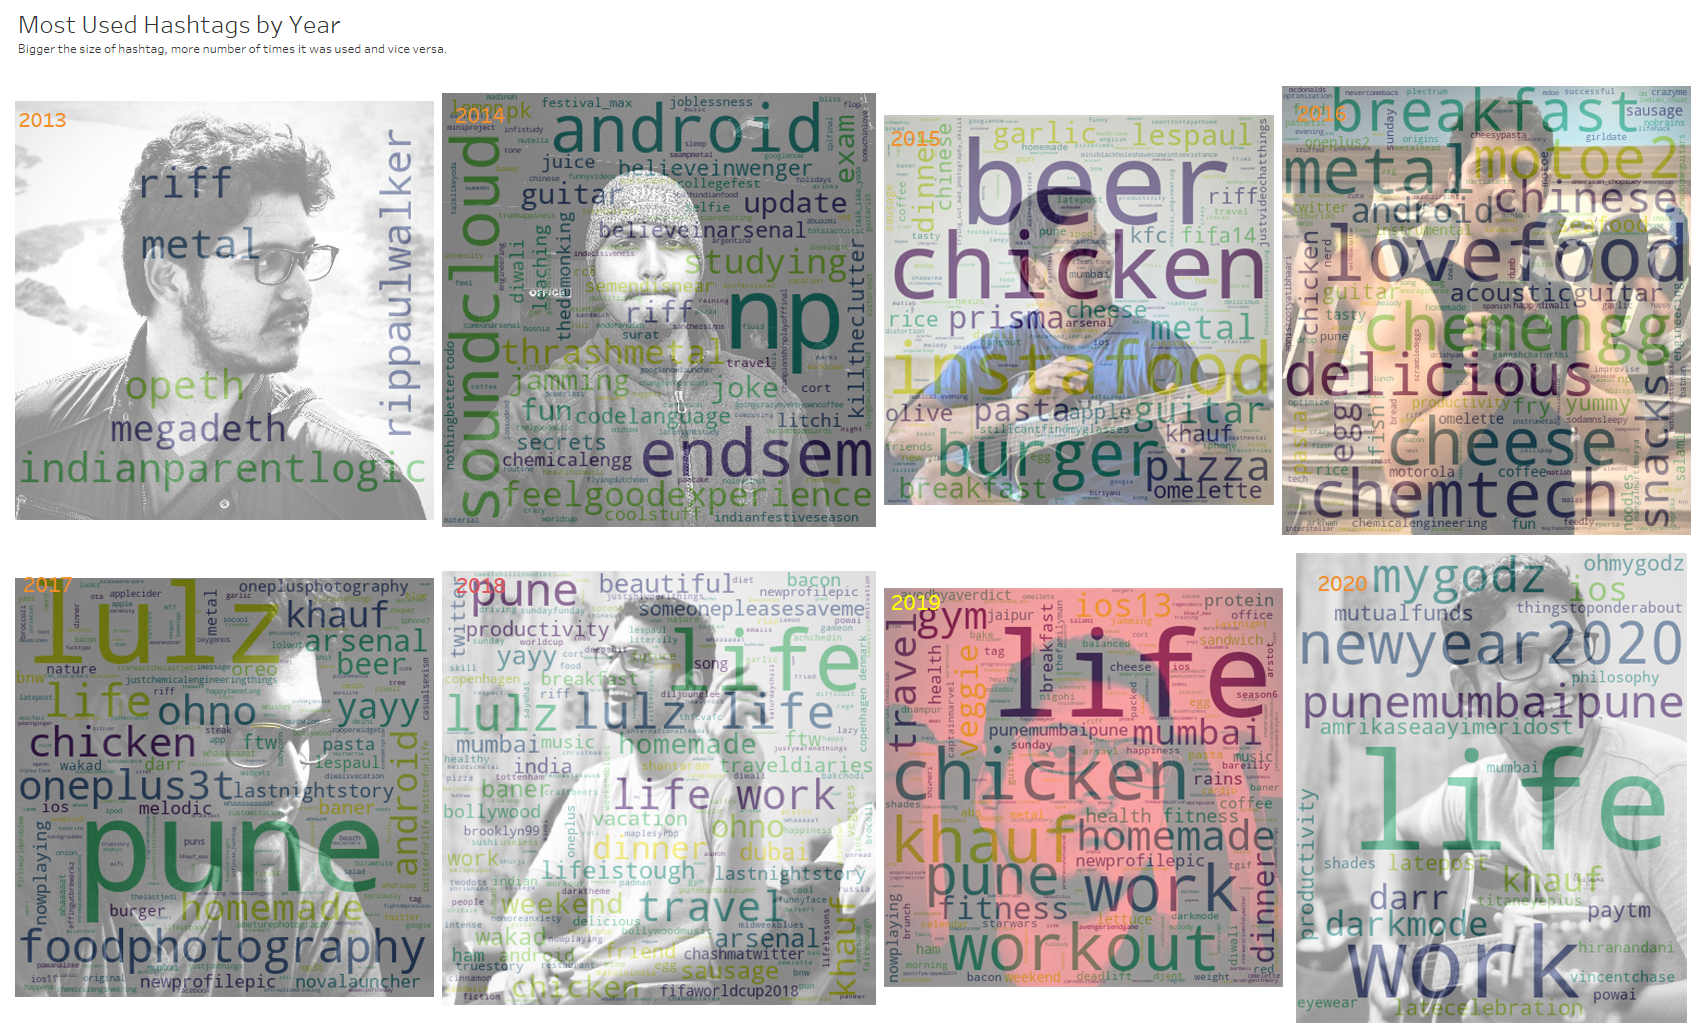

What the dashboard file says about the page in this screenshot:
{"tool":"tableau","page":{"name":"Most Used Hashtags by Year","canvas":[1000,1000],"units":"permille","ordinal":0},"visuals":[{"type":"title","box":[4.9,8.5,990.3,83.7]},{"type":"text","box":[7.9,29.7,489.4,74.2]},{"type":"image","param":"Image/2013_Hashcloud.png","box":[4.9,92.2,251.3,449.7]},{"type":"image","param":"Image/2014_Hashcloud.png","box":[256.2,92.2,259.9,449.7]},{"type":"image","param":"Image/2016_Hashcloud.png","box":[516.1,92.2,233.8,449.7]},{"type":"image","param":"Image/2015_Hashcloud.png","box":[749.8,92.2,245.3,449.7]},{"type":"text","box":[759.6,105.9,103.8,31.8]},{"type":"text","box":[264.1,108,103.8,31.8]},{"type":"text","box":[7.9,112.3,104.4,31.8]},{"type":"text","box":[520.3,129.2,103.8,31.8]},{"type":"image","param":"Image/2017_Hashcloud.png","box":[4.9,541.8,251.3,449.7]},{"type":"image","param":"Image/2018_Hashcloud.png","box":[256.2,541.8,259.9,449.7]},{"type":"image","param":"Image/2019_Hashcloud.png","box":[516.1,541.8,239.5,449.7]},{"type":"image","param":"Image/2020_Hashcloud.png","box":[755.6,541.8,239.5,449.7]},{"type":"text","box":[771.7,553,60.7,31.8]},{"type":"text","box":[9.7,554,60.7,31.8]},{"type":"text","box":[264.7,555.1,60.7,31.8]},{"type":"text","box":[520.3,573.1,60.7,27.5]}]}

Visuals, with their boxes on the dashboard's canvas, which has no fixed pixel size, in thousandths of its width and height (x1, y1, x2, y2). These are canvas units, not pixel positions in the 1704x1029 screenshot, which may show the page scaled, cropped or inside an application window:
title: [left=5, top=8, right=995, bottom=92]
text: [left=8, top=30, right=497, bottom=104]
image: [left=5, top=92, right=256, bottom=542]
image: [left=256, top=92, right=516, bottom=542]
image: [left=516, top=92, right=750, bottom=542]
image: [left=750, top=92, right=995, bottom=542]
text: [left=760, top=106, right=863, bottom=138]
text: [left=264, top=108, right=368, bottom=140]
text: [left=8, top=112, right=112, bottom=144]
text: [left=520, top=129, right=624, bottom=161]
image: [left=5, top=542, right=256, bottom=992]
image: [left=256, top=542, right=516, bottom=992]
image: [left=516, top=542, right=756, bottom=992]
image: [left=756, top=542, right=995, bottom=992]
text: [left=772, top=553, right=832, bottom=585]
text: [left=10, top=554, right=70, bottom=586]
text: [left=265, top=555, right=325, bottom=587]
text: [left=520, top=573, right=581, bottom=601]
